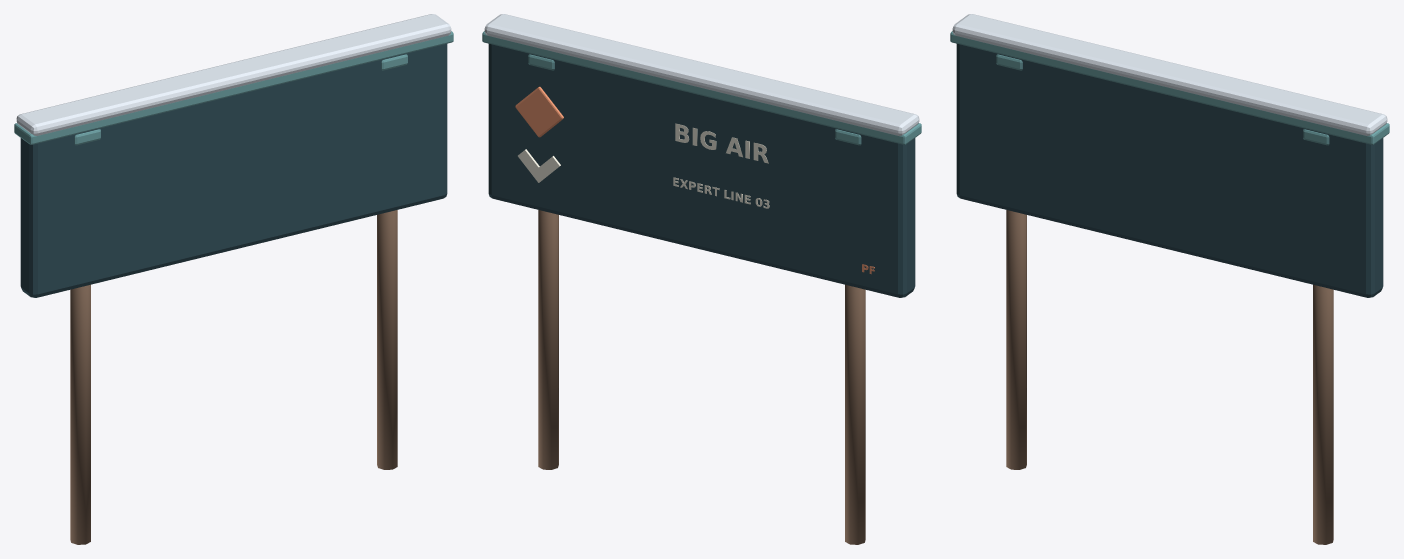
Rendered from SignBigAir.fbx.
3 views of the same model, side by side, from view 1: azimuth 30°, elevation 25°; view 2: azimuth 150°, elevation 25°; view 3: azimuth 330°, elevation 25° (orthographic).
Visible parts, largest first — view 1: Visual_SignBigAir; view 2: Visual_SignBigAir; view 3: Visual_SignBigAir.
Boxes of the visible parts, x1,y1,x2,y2 form: Visual_SignBigAir: (14,14,453,544); Visual_SignBigAir: (482,14,921,544); Visual_SignBigAir: (950,14,1389,544).
Size of what is drawn, in the model's own units: 3.4 by 3.32 by 0.268.
